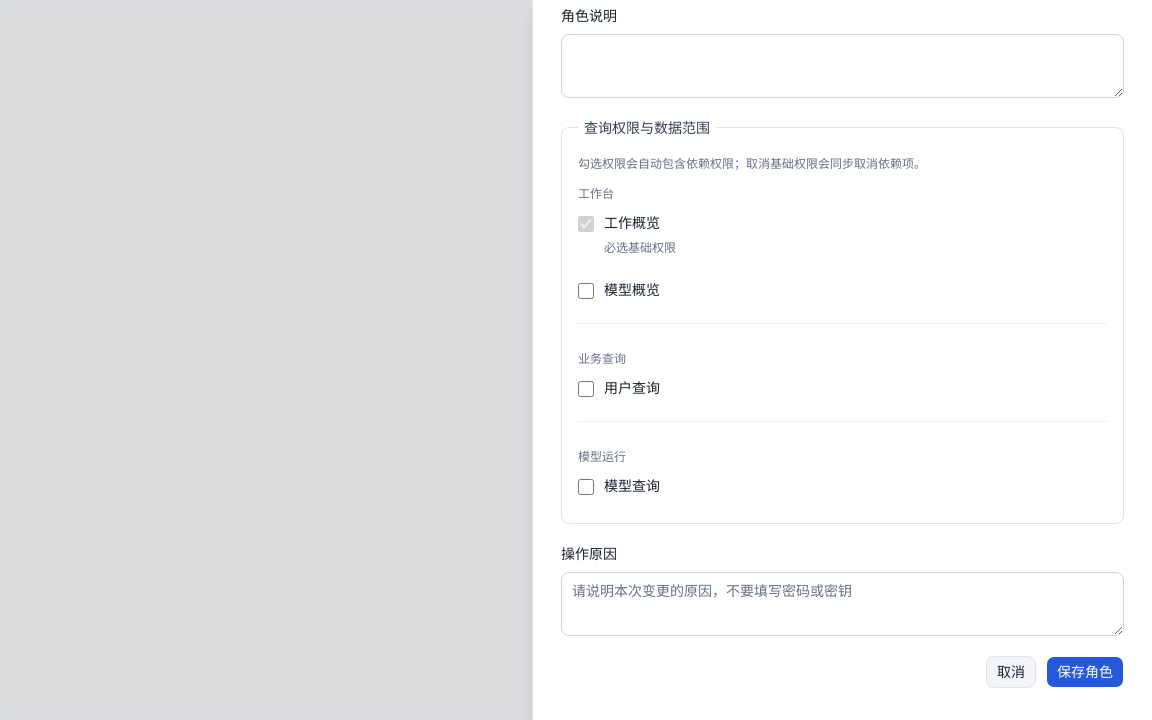
Scenario: shows role edit member/invitation counts and differentiates permission from name-only impact
(page scrolled)
Click the checkbox labelled "模型查询" at point(586, 487), box [578,479,594,495]
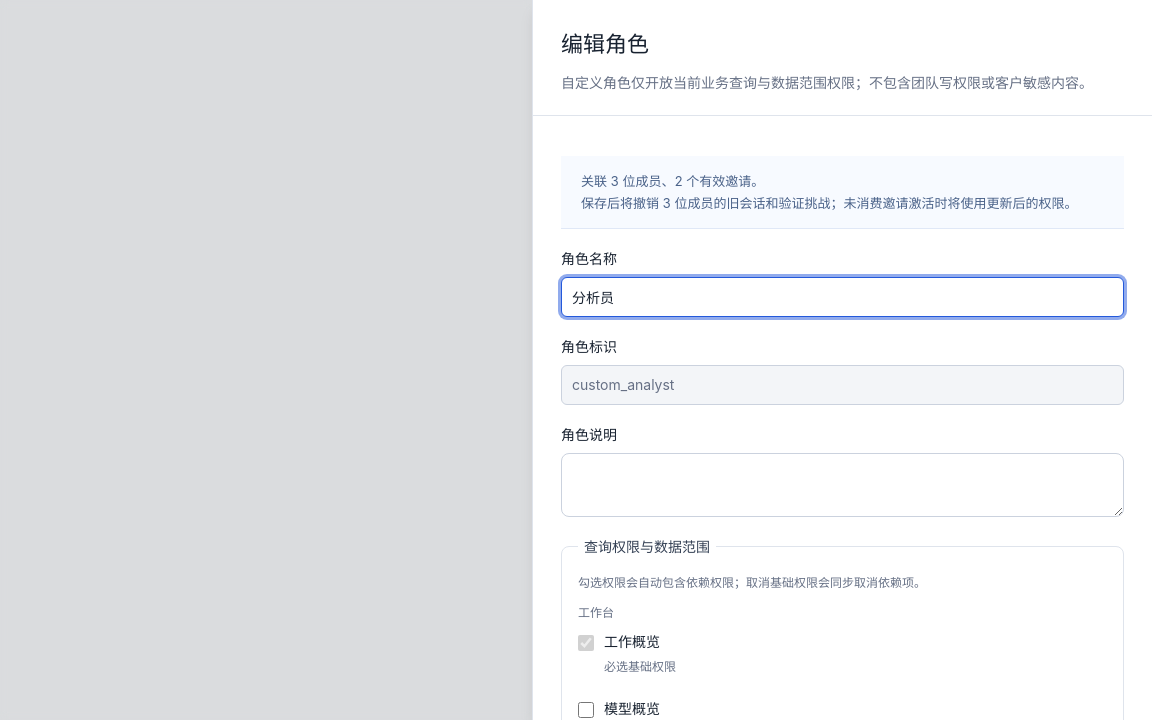
Expected: the text "保存后将撤销 3 位成员的旧会话和验证挑战；未消费邀请激活时将使用更新后的权限。" is shown, [581,192,1104,214]
